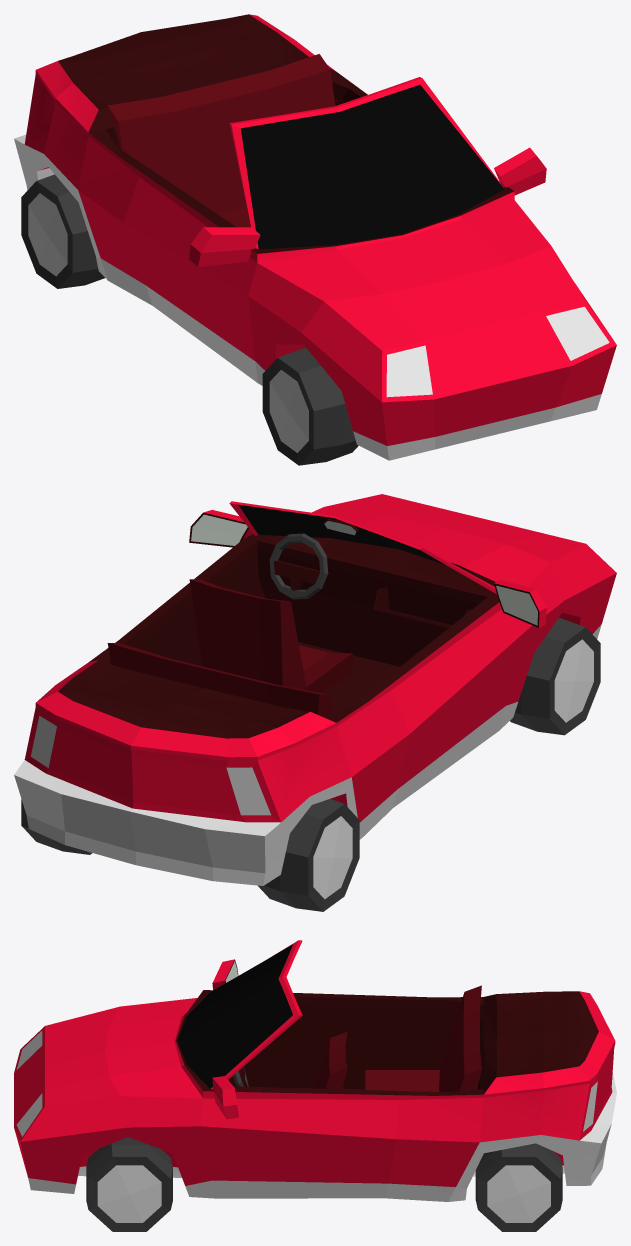
Rendered from Carrito.fbx.
3 renders of one model, top to bottom at view 1: azimuth 30°, elevation 25°; view 2: azimuth 150°, elevation 25°; view 3: azimuth 270°, elevation 25°, orthographic. The views are drawn at different scales.
Visible parts, largest first — view 1: Chevy Pop, Asiento Trasero, Wheel.FR, Wheel.BR; view 2: Chevy Pop, Asiento Piloto, Wheel.BR, Wheel.FR, Asiento Trasero, Volante, Guantera, Wheel.BL; view 3: Chevy Pop, Wheel.FL, Wheel.BL, Asiento Trasero, Asiento Piloto.
Boxes of the visible parts, x1,y1,x2,y2 form: Chevy Pop: (14, 14, 616, 460); Asiento Trasero: (107, 54, 335, 227); Wheel.FR: (262, 348, 358, 465); Wheel.BR: (21, 174, 104, 288); Chevy Pop: (14, 494, 616, 885); Asiento Piloto: (189, 579, 352, 692); Wheel.BR: (258, 799, 359, 911); Wheel.FR: (510, 617, 600, 735); Asiento Trasero: (107, 643, 333, 717); Volante: (269, 533, 328, 599); Guantera: (373, 587, 471, 627); Wheel.BL: (21, 799, 92, 854); Chevy Pop: (14, 940, 616, 1201); Wheel.FL: (86, 1137, 172, 1231); Wheel.BL: (475, 1143, 562, 1231); Asiento Trasero: (365, 985, 481, 1092); Asiento Piloto: (314, 1031, 347, 1089).
Size of the model in its own units: 1.73 by 3.2 by 1.18.
